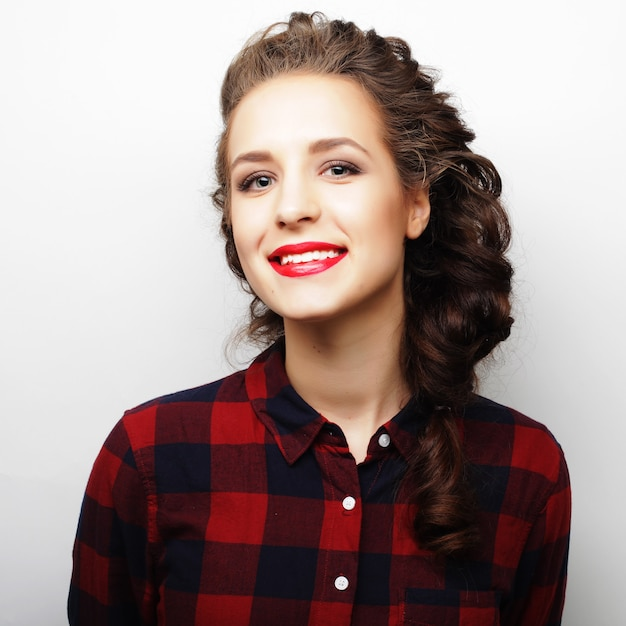teen: (188, 4, 485, 370)
